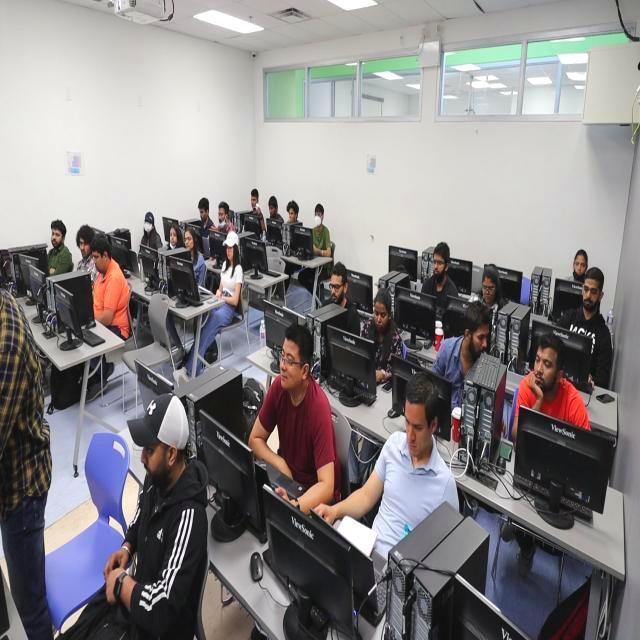Looking away: (404, 397, 428, 457), (472, 324, 488, 360), (582, 279, 599, 311), (373, 300, 390, 332), (330, 272, 344, 306), (482, 276, 496, 304), (92, 250, 103, 274), (184, 230, 194, 250), (218, 207, 227, 227), (268, 205, 278, 218), (199, 207, 207, 222)
Looking forward: (278, 336, 302, 389), (533, 344, 556, 390), (140, 440, 164, 480), (432, 252, 446, 280), (573, 254, 587, 279), (80, 237, 90, 258), (51, 228, 60, 248), (144, 217, 154, 233), (170, 227, 178, 246), (314, 210, 322, 227), (226, 244, 234, 261), (288, 208, 296, 222), (251, 196, 258, 208)
